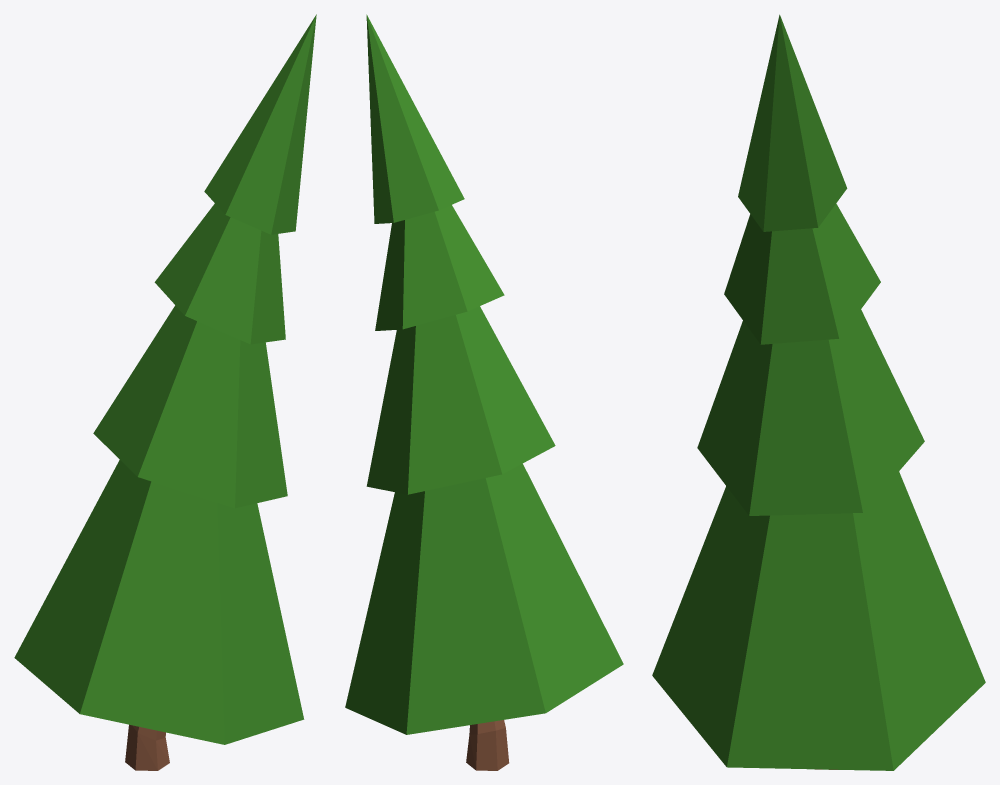
Rendered from TreePine02.glb.
3 views of the same model, side by side, from view 1: azimuth 30°, elevation 25°; view 2: azimuth 150°, elevation 25°; view 3: azimuth 270°, elevation 25° (orthographic). The views are drawn at different scales.
Parts seen in each view (by area): view 1: Pine_Tree_02; view 2: Pine_Tree_02; view 3: Pine_Tree_02.
Part boxes in pixels (x1,y1,x2,y2): Pine_Tree_02: (14,14,316,770); Pine_Tree_02: (345,14,623,770); Pine_Tree_02: (652,14,985,770).
Bounding box in the file's own units: 17.3 × 47.69 × 17.41.
Materials: 1 (1 with a texture image).
